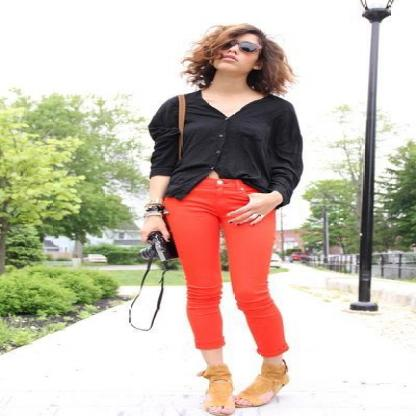pants: (163, 178, 286, 357)
shirt: (147, 91, 302, 200)
shoe: (198, 358, 288, 415)
